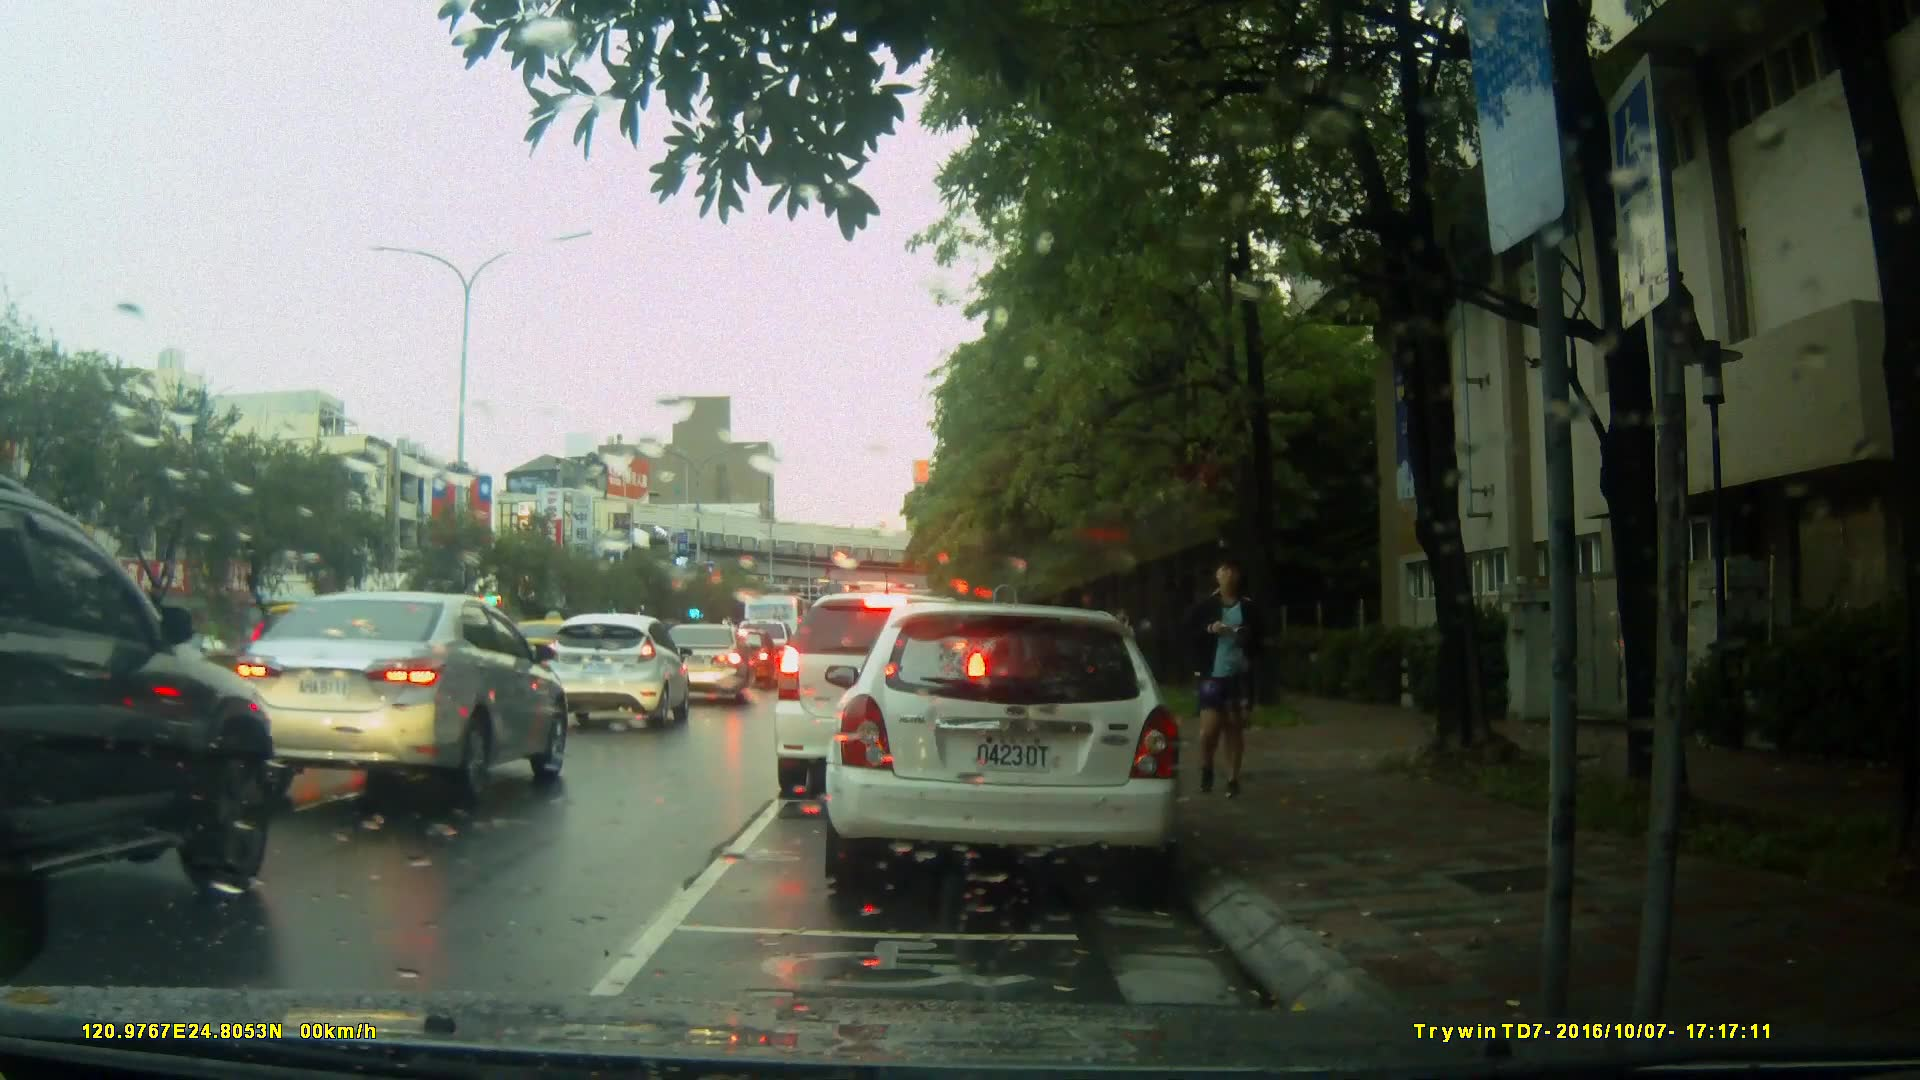pedestrian: (1170, 567, 1271, 808)
vehicle: (3, 475, 287, 961), (815, 593, 1197, 889), (226, 591, 571, 812), (770, 590, 995, 802), (537, 610, 692, 731), (659, 623, 753, 704)
